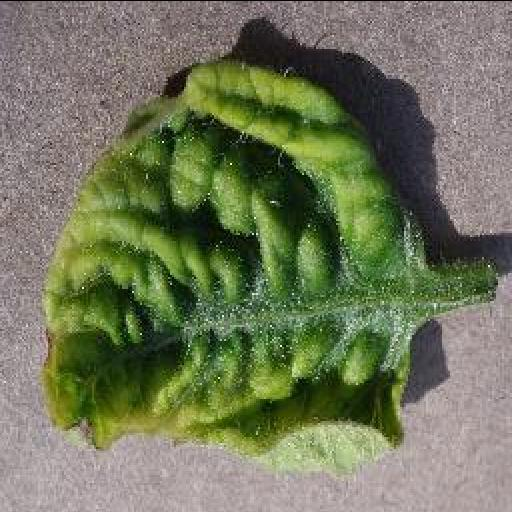disease_tomato: (39, 57, 433, 471)
